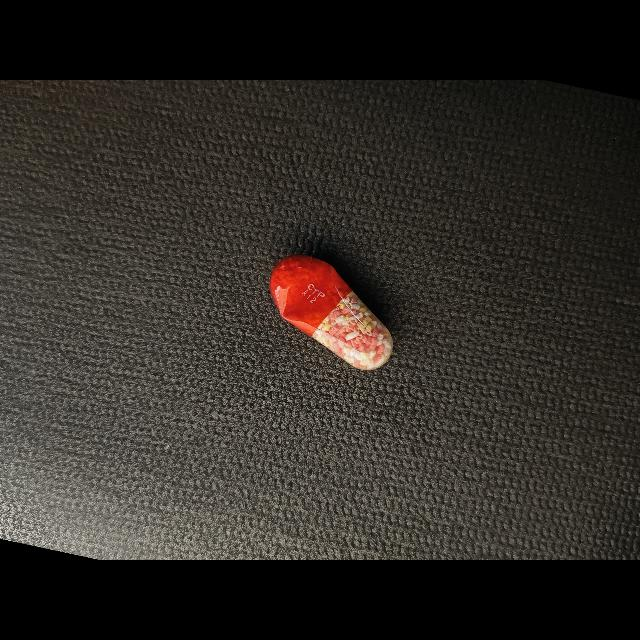Defective Capsule: (270, 255, 393, 370)
